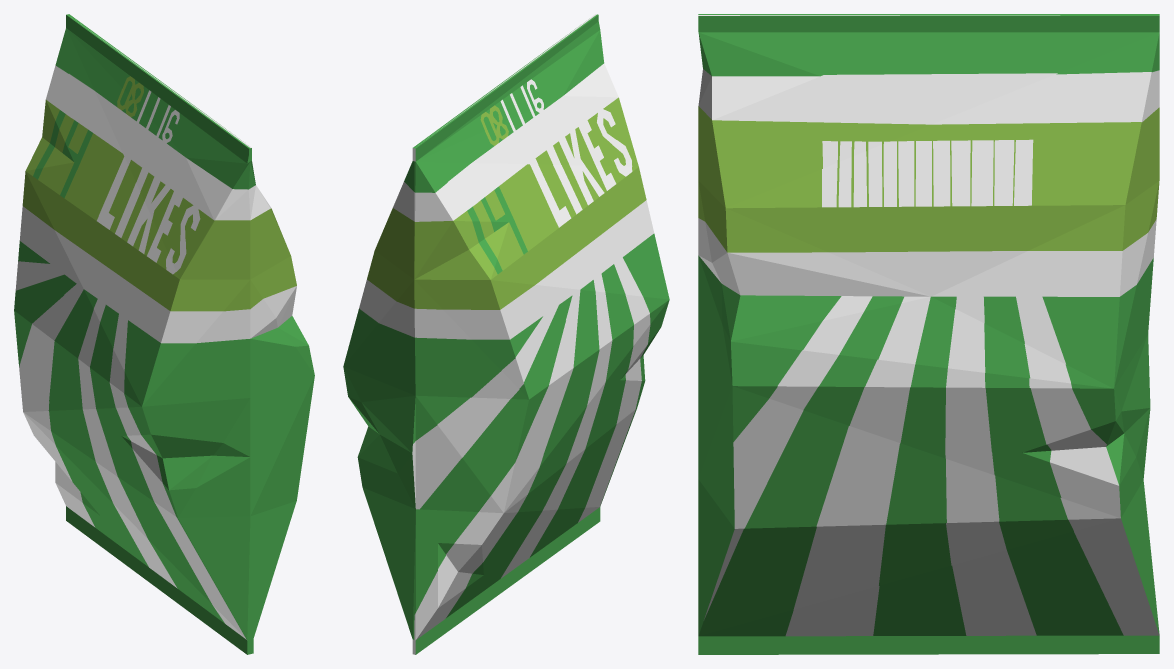
File: Salt&Vinegarcrisps.glb
The picture shows the model from 3 angles, left to right: view 1: azimuth 30°, elevation 25°; view 2: azimuth 150°, elevation 25°; view 3: azimuth 270°, elevation 25°; orthographic projection. The views are drawn at different scales.
Visible parts, largest first — view 1: group478861069; view 2: group478861069; view 3: group478861069.
Part boxes in pixels (box(x1,y1,x2,y2)): group478861069: box(14, 14, 314, 654); group478861069: box(343, 14, 669, 654); group478861069: box(698, 14, 1159, 654).
Size of the model in its own units: 0.8384 by 2.26 by 1.48.
